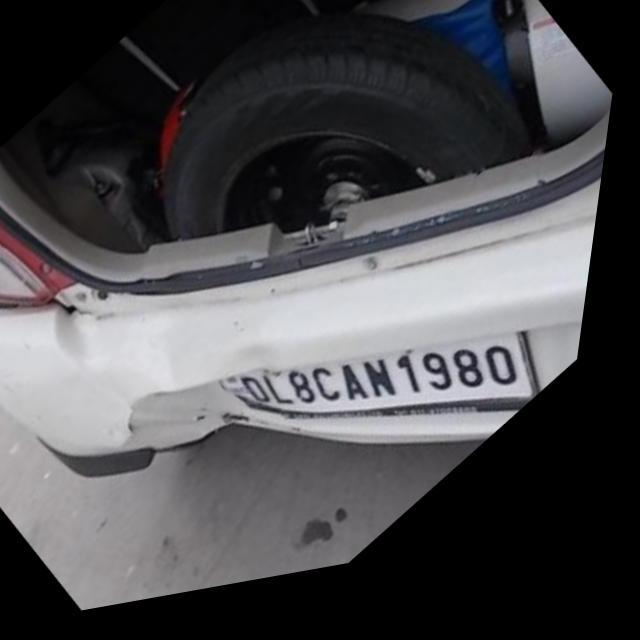crack: (129, 361, 275, 461)
dent: (245, 349, 294, 386)
dislocated part: (0, 296, 111, 323)
